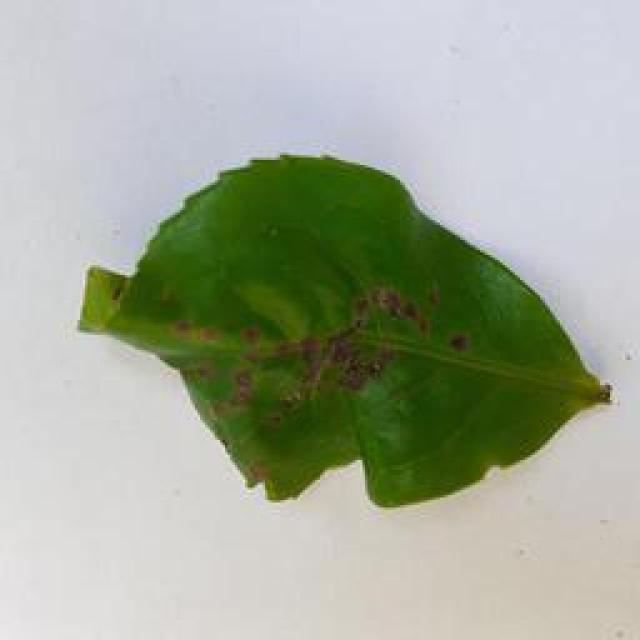Helopeltis: (66, 151, 623, 523)
